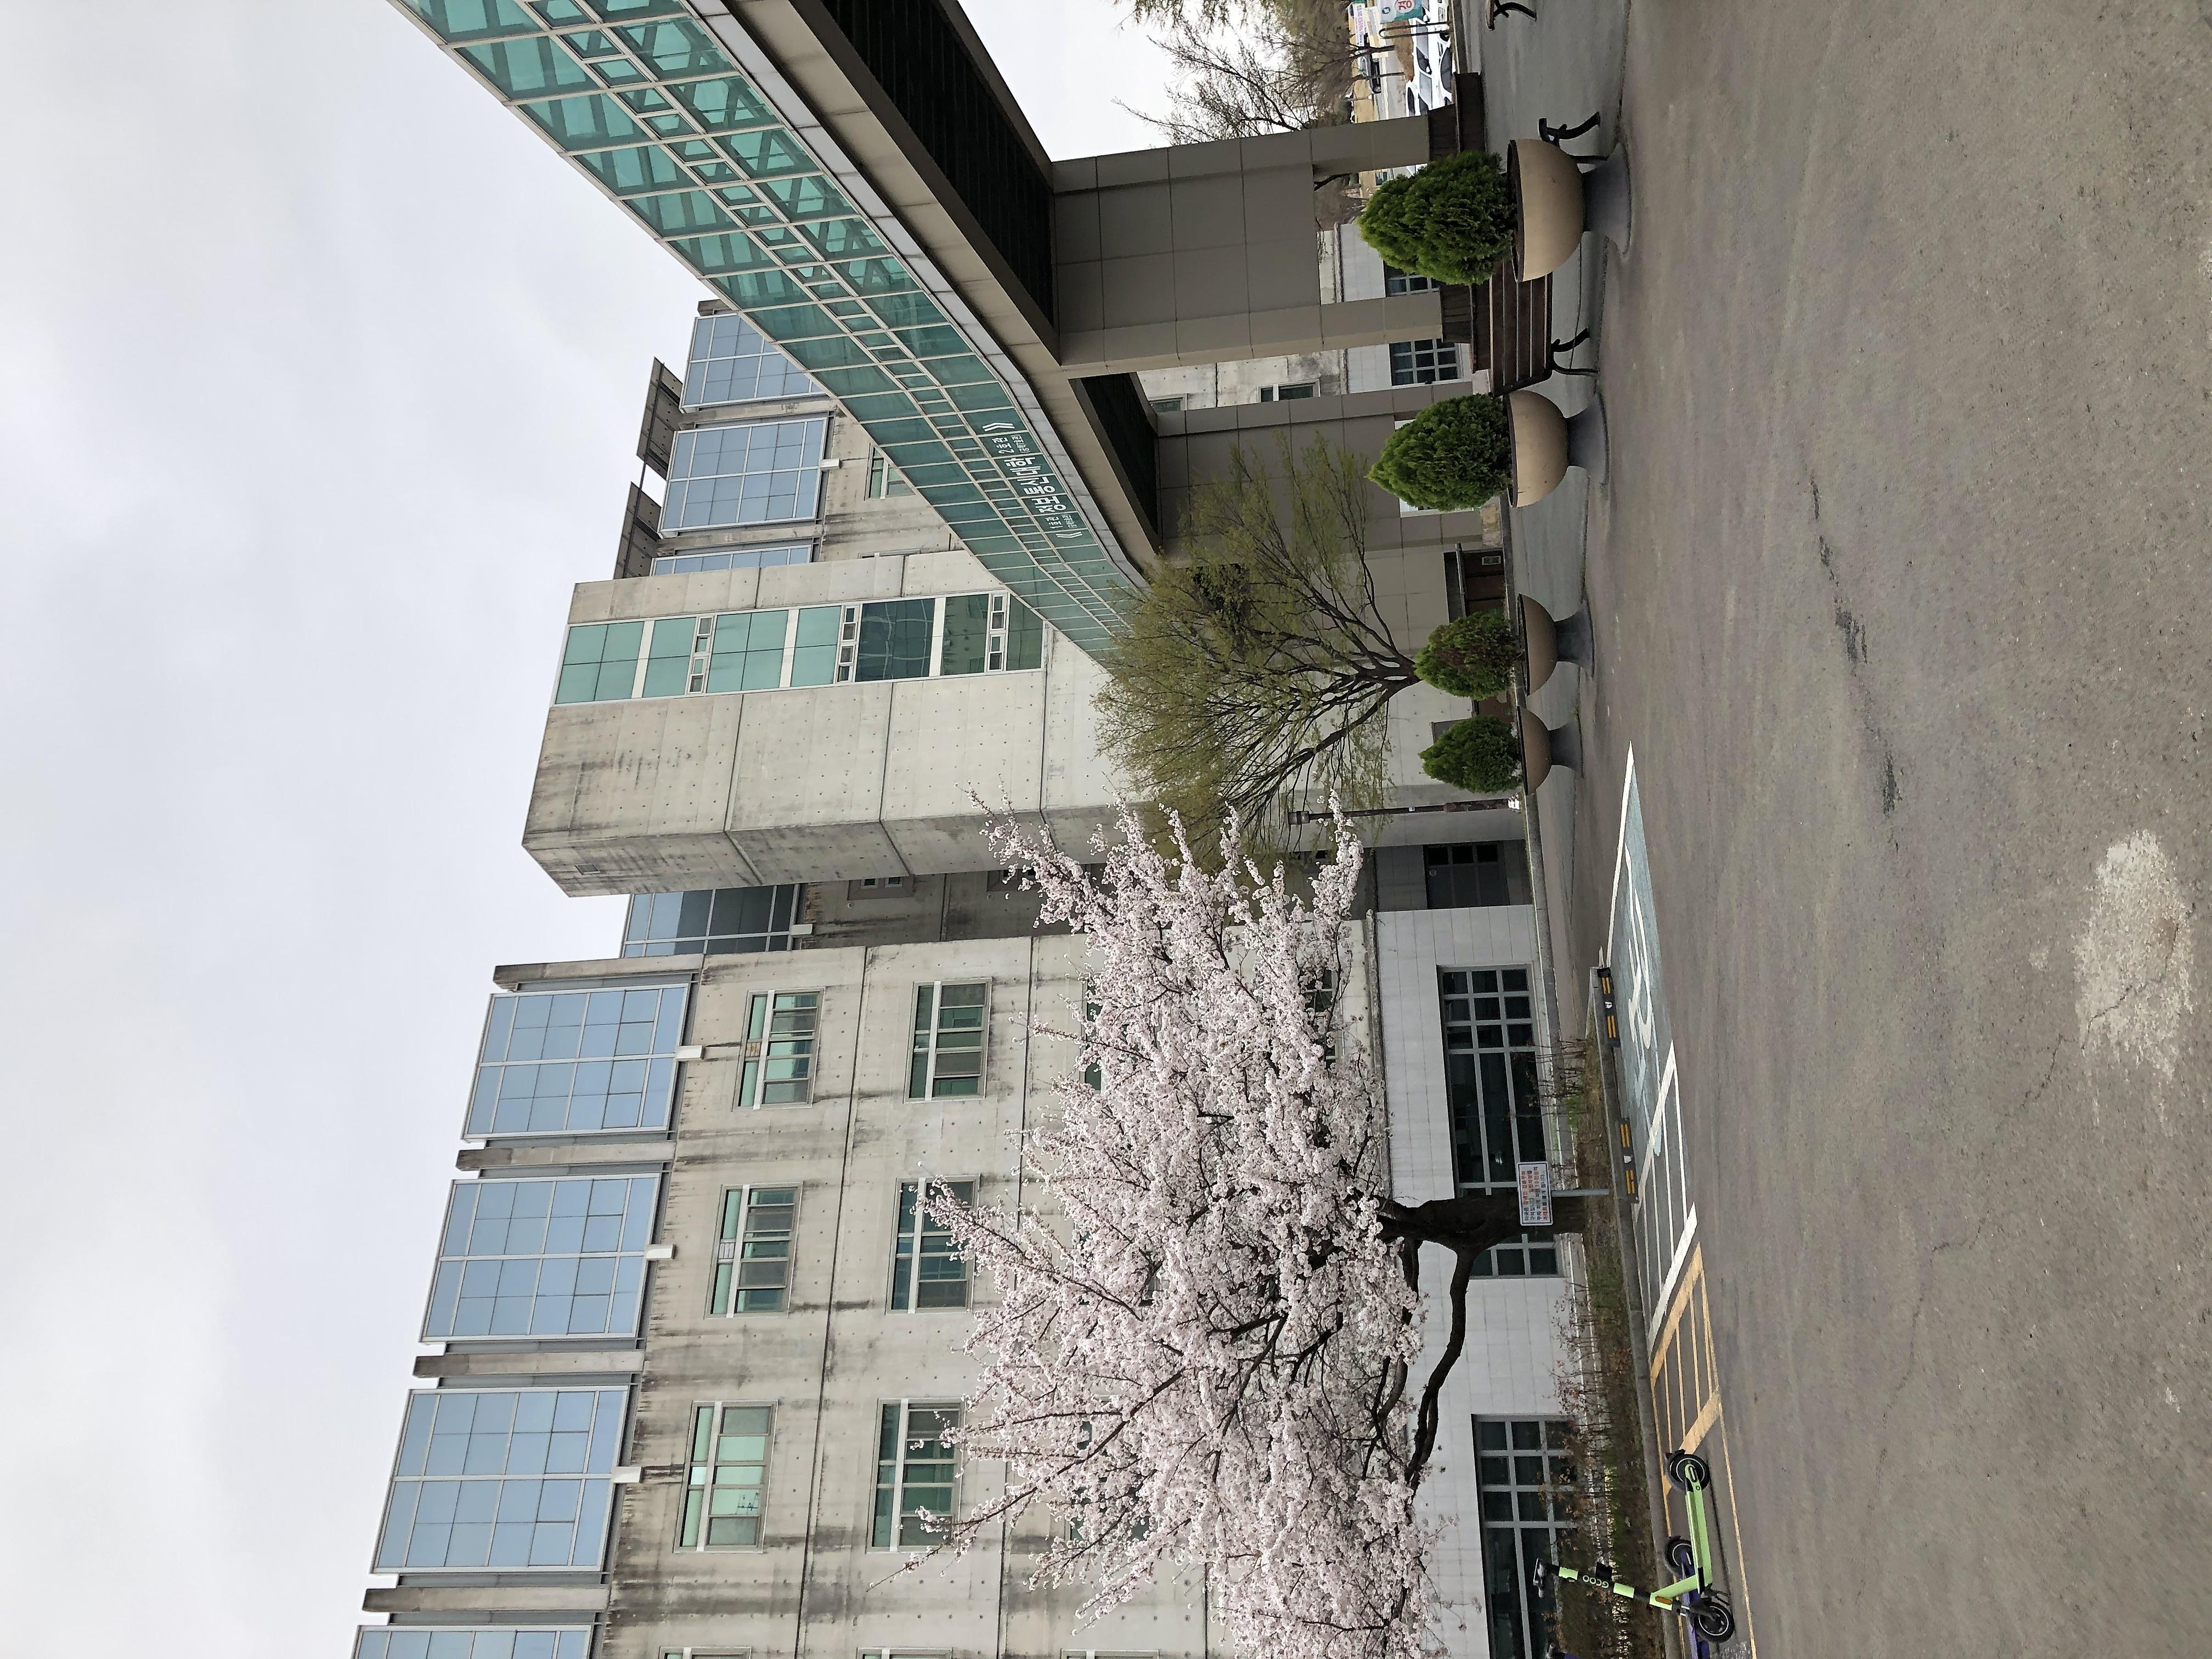building: (3, 207, 2114, 1262)
